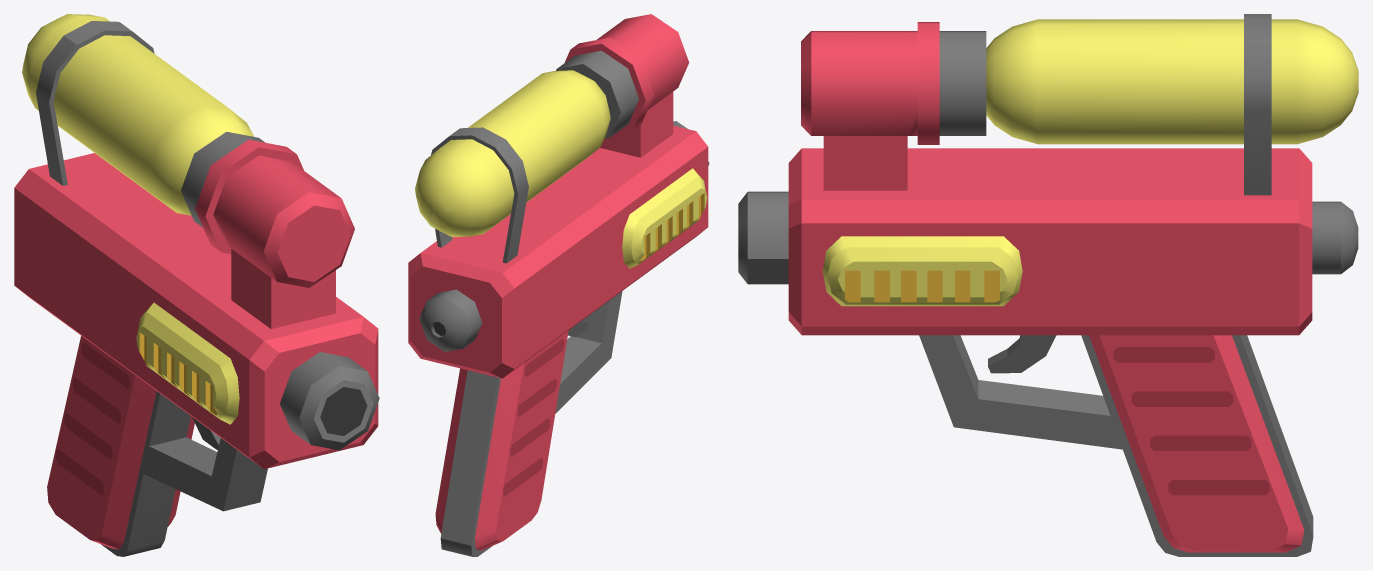
File: TM_Gun.fbx
The picture shows the model from 3 angles, left to right: view 1: azimuth 30°, elevation 25°; view 2: azimuth 150°, elevation 25°; view 3: azimuth 270°, elevation 25°; orthographic projection. The views are drawn at different scales.
Visible parts, largest first — view 1: Gun; view 2: Gun; view 3: Gun, Trigger.
Boxes of the visible parts, left/top/right/bottom form: Gun: left=14, top=14, right=379, bottom=556; Gun: left=408, top=14, right=709, bottom=556; Gun: left=738, top=14, right=1358, bottom=556; Trigger: left=988, top=335, right=1056, bottom=373.
Bounding box in the file's own units: 4.83 × 14.31 × 15.26.
1 material, 1 textured.
